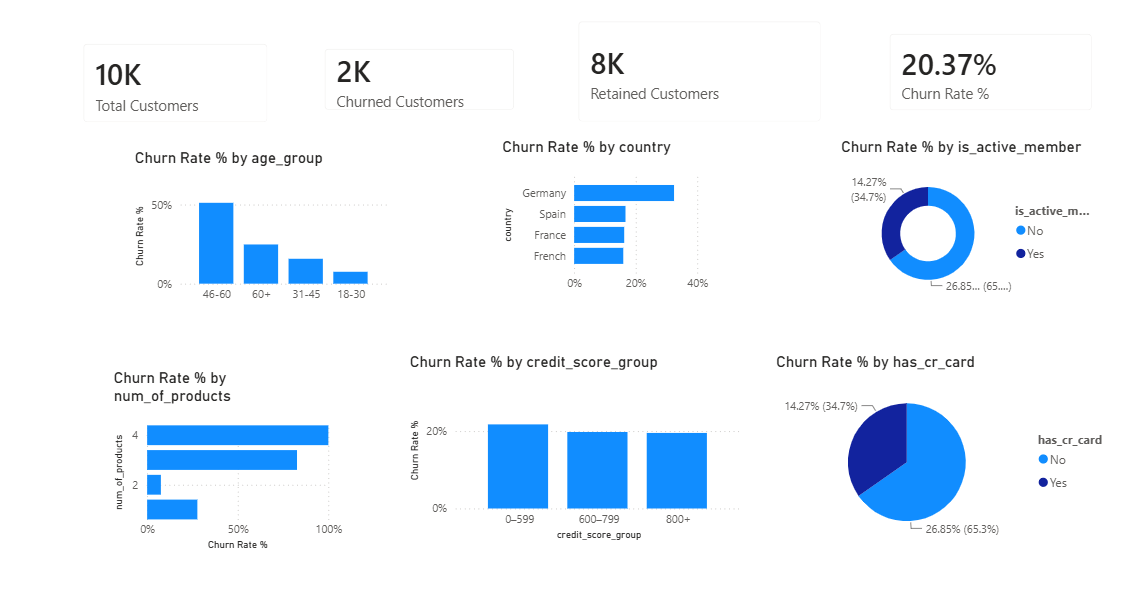

Layout of this report page (visuals, bound fields, positions):
{"tool":"powerbi","page":{"name":"Page 1","canvas":[1280,720],"ordinal":0},"visuals":[{"type":"cardVisual","fields":{"Data":["bank_customer_churn bank_churn.Total Customers"]},"box":[120.8,85.1,236,120.8],"z":0},{"type":"cardVisual","fields":{"Data":["bank_customer_churn bank_churn.Retained Customers"]},"box":[664.2,60.4,300.5,144.1],"z":1000},{"type":"cardVisual","fields":{"Data":["bank_customer_churn bank_churn.Churned Customers"]},"box":[385.6,90.6,242.9,101.5],"z":2000},{"type":"cardVisual","fields":{"Data":["bank_customer_churn bank_churn.Churn Rate %"]},"box":[1005.8,74.1,256.6,118],"z":3000},{"type":"columnChart","fields":{"Category":["bank_customer_churn bank_churn.age_group"],"Y":["bank_customer_churn bank_churn.Churn Rate %"]},"box":[189.4,216.8,286.8,178.4],"z":4000},{"type":"clusteredBarChart","fields":{"Category":["bank_customer_churn bank_churn.country"],"Y":["bank_customer_churn bank_churn.Churn Rate %"]},"box":[592.8,204.5,236,178],"z":5000},{"type":"donutChart","fields":{"Category":["bank_customer_churn bank_churn.is_active_member"],"Y":["bank_customer_churn bank_churn.Churn Rate %"]},"box":[964.7,204.5,286.8,181.1],"z":6000},{"type":"clusteredBarChart","fields":{"Category":["bank_customer_churn bank_churn.num_of_products"],"Y":["bank_customer_churn bank_churn.Churn Rate %"]},"box":[166,458.3,260.7,204.5],"z":7000},{"type":"clusteredColumnChart","fields":{"Category":["bank_customer_churn bank_churn.credit_score_group"],"Y":["bank_customer_churn bank_churn.Churn Rate %"]},"box":[491.3,440.5,374.6,211.3],"z":8000},{"type":"pieChart","fields":{"Category":["bank_customer_churn bank_churn.has_cr_card"],"Y":["bank_customer_churn bank_churn.Churn Rate %"]},"box":[893.3,440.5,387,211.3],"z":9000}]}

Visuals, with their boxes on the page's 1280x720 design canvas (x1, y1, x2, y2). These are canvas units, not pixel positions in the 1123x593 screenshot, which may show the page scaled, cropped or inside an application window:
cardVisual - bank_customer_churn bank_churn.Total Customers: pyautogui.locateOnScreen(121, 85, 357, 206)
cardVisual - bank_customer_churn bank_churn.Retained Customers: pyautogui.locateOnScreen(664, 60, 965, 204)
cardVisual - bank_customer_churn bank_churn.Churned Customers: pyautogui.locateOnScreen(386, 91, 628, 192)
cardVisual - bank_customer_churn bank_churn.Churn Rate %: pyautogui.locateOnScreen(1006, 74, 1262, 192)
columnChart - bank_customer_churn bank_churn.age_group x bank_customer_churn bank_churn.Churn Rate %: pyautogui.locateOnScreen(189, 217, 476, 395)
clusteredBarChart - bank_customer_churn bank_churn.country x bank_customer_churn bank_churn.Churn Rate %: pyautogui.locateOnScreen(593, 204, 829, 382)
donutChart - bank_customer_churn bank_churn.is_active_member x bank_customer_churn bank_churn.Churn Rate %: pyautogui.locateOnScreen(965, 204, 1252, 386)
clusteredBarChart - bank_customer_churn bank_churn.num_of_products x bank_customer_churn bank_churn.Churn Rate %: pyautogui.locateOnScreen(166, 458, 427, 663)
clusteredColumnChart - bank_customer_churn bank_churn.credit_score_group x bank_customer_churn bank_churn.Churn Rate %: pyautogui.locateOnScreen(491, 440, 866, 652)
pieChart - bank_customer_churn bank_churn.has_cr_card x bank_customer_churn bank_churn.Churn Rate %: pyautogui.locateOnScreen(893, 440, 1280, 652)
